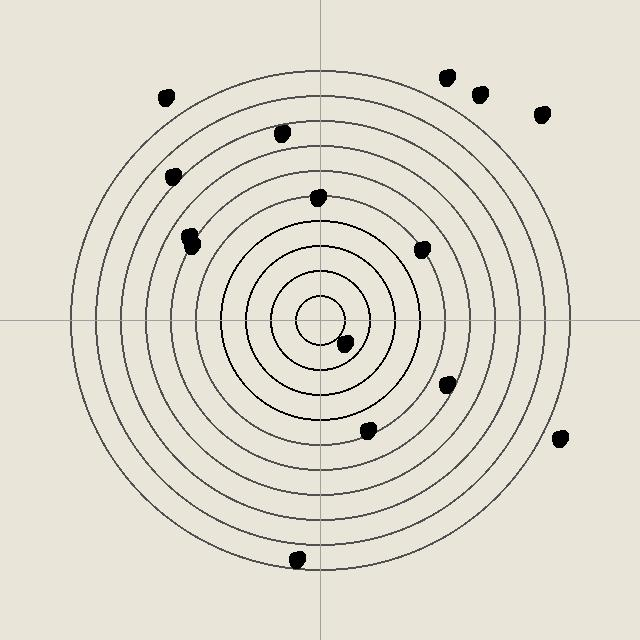random_scatter: (436, 67, 456, 87), (307, 187, 327, 207), (181, 235, 201, 255), (357, 420, 377, 440), (155, 87, 175, 107), (436, 374, 456, 394), (549, 428, 569, 448), (531, 104, 551, 124), (162, 166, 182, 186), (334, 333, 354, 353), (411, 239, 431, 259), (286, 549, 306, 569), (469, 84, 489, 104), (271, 123, 291, 143), (178, 226, 198, 246)
